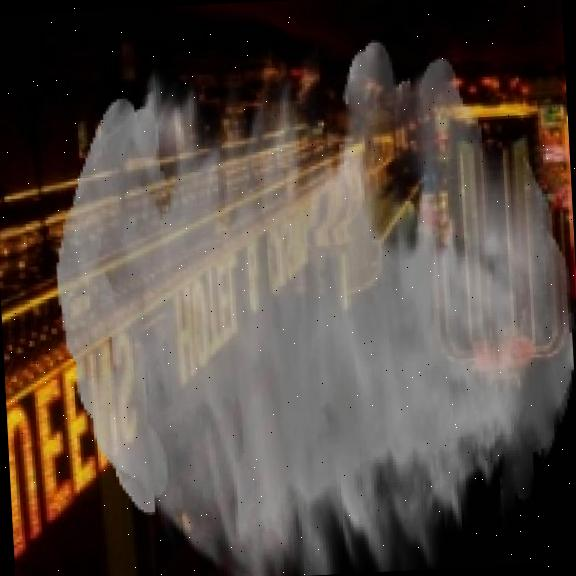smoke: (45, 29, 576, 576)
